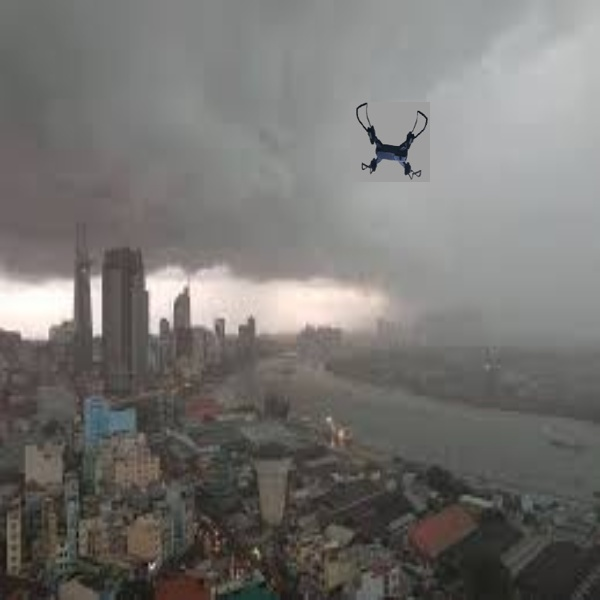drone: (352, 99, 434, 184)
